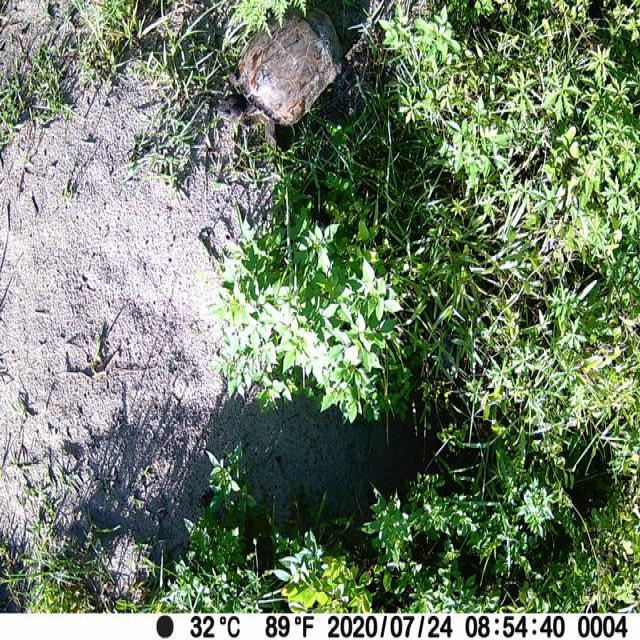tortoise: (217, 4, 340, 148)
